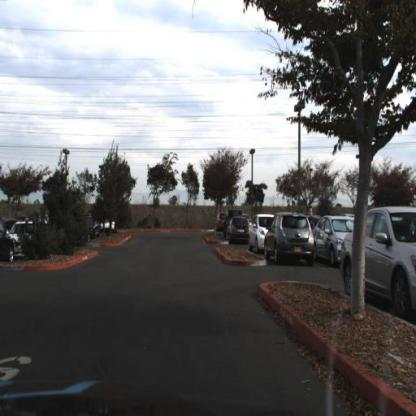car: (340, 204, 416, 308), (263, 210, 317, 267), (313, 214, 360, 262), (248, 213, 275, 255), (7, 220, 36, 259), (228, 217, 250, 245), (225, 208, 243, 235), (102, 220, 116, 234)
